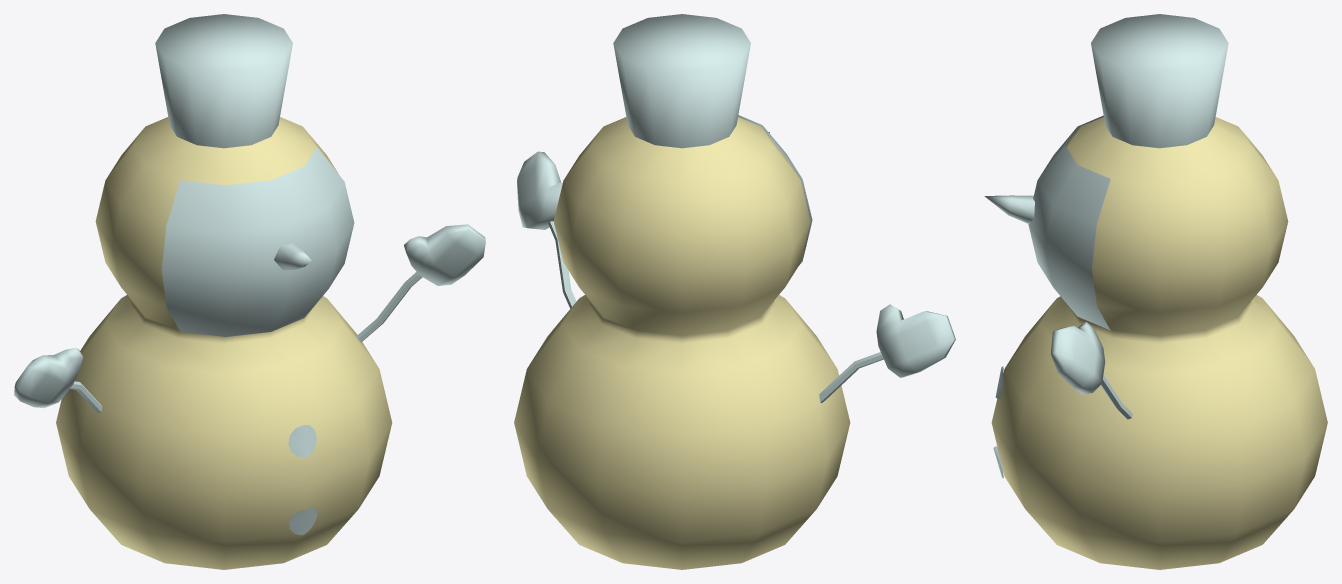
Rendered from PQ_Ch_Yukidaruma_S.fbx.
3 renders of one model, left to right at view 1: azimuth 30°, elevation 25°; view 2: azimuth 150°, elevation 25°; view 3: azimuth 270°, elevation 25°, orthographic.
Visible parts, largest first — view 1: Yuki_Small; view 2: Yuki_Small; view 3: Yuki_Small.
Part boxes in pixels (left/top/right/bottom): Yuki_Small: left=14, top=14, right=485, bottom=569; Yuki_Small: left=514, top=14, right=955, bottom=569; Yuki_Small: left=984, top=14, right=1327, bottom=569.
Bounding box in the file's own units: 54.38 × 55.46 × 35.78.
